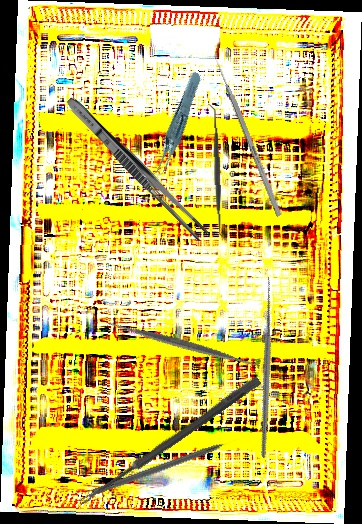Dressing Forceps: (61, 93, 212, 243)
Hook Surgical: (176, 271, 349, 459), (91, 435, 241, 498)
Pusher: (211, 53, 283, 217)
Spatula Surgical: (104, 264, 265, 426), (207, 103, 227, 239)
Surgical Spoon: (77, 374, 262, 509)
Tissue Forceps: (128, 70, 222, 182)
